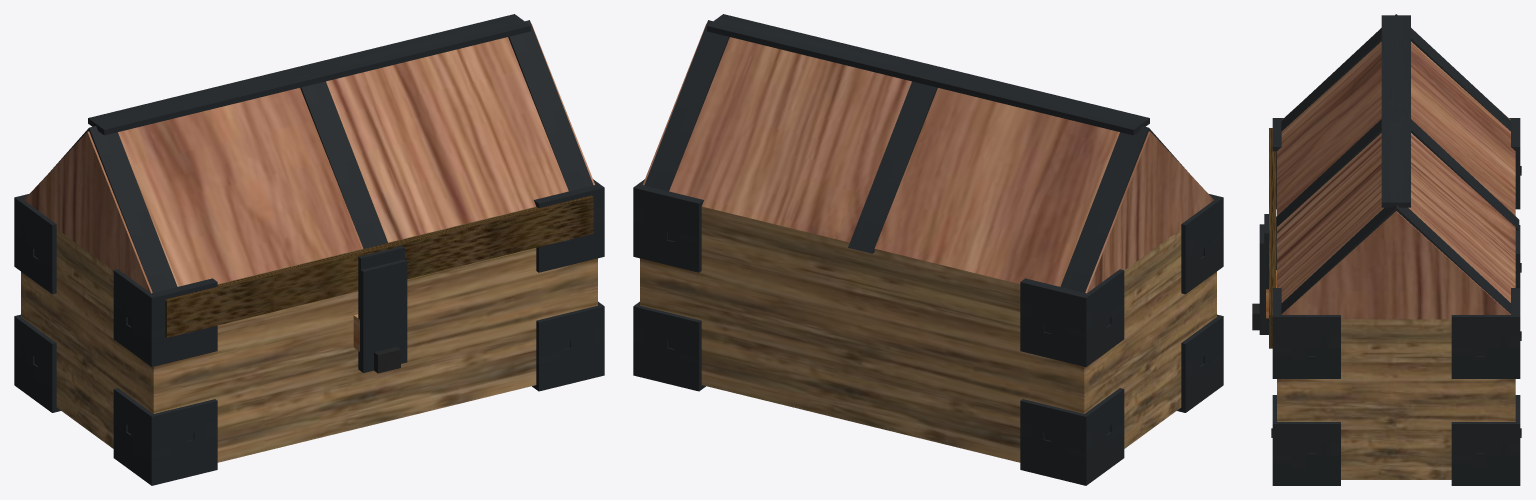
The model's file is Bag_Suitcase_Treasure_chest__0046.glb.
3 views of the same model, side by side, from view 1: azimuth 30°, elevation 25°; view 2: azimuth 150°, elevation 25°; view 3: azimuth 270°, elevation 25° (orthographic). The views are drawn at different scales.
Visible parts, largest first — view 1: chest_lid::lid_panel, chest_body::wall_front, chest_lid::lid_front_skirt, chest_body::wall_left, chest_lid::ridge_cap, chest_body::corner_bracket_0, chest_body::corner_bracket_4, chest_body::corner_bracket_1, lock_hasp::hasp_arm, chest_lid::lid_strap_1, chest_lid::lid_strap_0, chest_lid::lid_strap_2 (+4 smaller); view 2: chest_lid::lid_panel, chest_body::wall_back, chest_body::wall_left, chest_lid::ridge_cap, chest_body::corner_bracket_6, chest_body::corner_bracket_2, chest_body::corner_bracket_7, chest_body::corner_bracket_3, chest_lid::lid_strap_1, chest_lid::lid_strap_0, chest_lid::lid_strap_2, chest_body::corner_bracket_4 (+1 smaller); view 3: chest_lid::lid_panel, chest_body::wall_right, chest_lid::ridge_cap, chest_body::corner_bracket_7, chest_body::corner_bracket_5, chest_body::corner_bracket_3, chest_body::corner_bracket_1, chest_lid::lid_strap_2, chest_lid::lid_strap_1, chest_lid::lid_strap_0, chest_lid::lid_front_skirt, lock_hasp::hasp_arm (+3 smaller).
Boxes of the visible parts, bbox=[...] form: chest_lid::lid_panel: bbox=[24, 23, 594, 293]; chest_body::wall_front: bbox=[153, 206, 597, 462]; chest_lid::lid_front_skirt: bbox=[165, 195, 593, 337]; chest_body::wall_left: bbox=[21, 229, 153, 448]; chest_lid::ridge_cap: bbox=[88, 14, 530, 135]; chest_body::corner_bracket_0: bbox=[113, 388, 217, 485]; chest_body::corner_bracket_4: bbox=[113, 269, 217, 366]; chest_body::corner_bracket_1: bbox=[532, 301, 604, 391]; lock_hasp::hasp_arm: bbox=[358, 259, 407, 372]; chest_lid::lid_strap_1: bbox=[300, 81, 387, 248]; chest_lid::lid_strap_0: bbox=[51, 126, 177, 292]; chest_lid::lid_strap_2: bbox=[508, 20, 593, 191]; chest_lid::lid_panel: bbox=[643, 23, 1213, 293]; chest_body::wall_back: bbox=[640, 206, 1084, 462]; chest_body::wall_left: bbox=[1084, 229, 1216, 448]; chest_lid::ridge_cap: bbox=[707, 14, 1149, 135]; chest_body::corner_bracket_6: bbox=[1020, 269, 1124, 366]; chest_body::corner_bracket_2: bbox=[1020, 388, 1124, 485]; chest_body::corner_bracket_7: bbox=[633, 179, 703, 272]; chest_body::corner_bracket_3: bbox=[633, 301, 705, 391]; chest_lid::lid_strap_1: bbox=[848, 81, 937, 253]; chest_lid::lid_strap_0: bbox=[1060, 126, 1186, 292]; chest_lid::lid_strap_2: bbox=[644, 20, 729, 191]; chest_body::corner_bracket_4: bbox=[1181, 193, 1223, 294]; chest_lid::lid_panel: bbox=[1277, 41, 1515, 319]; chest_body::wall_right: bbox=[1277, 319, 1515, 479]; chest_lid::ridge_cap: bbox=[1381, 15, 1410, 207]; chest_body::corner_bracket_7: bbox=[1451, 288, 1521, 378]; chest_body::corner_bracket_5: bbox=[1272, 288, 1340, 378]; chest_body::corner_bracket_3: bbox=[1451, 395, 1521, 485]; chest_body::corner_bracket_1: bbox=[1271, 395, 1340, 485]; chest_lid::lid_strap_2: bbox=[1281, 204, 1511, 314]; chest_lid::lid_strap_1: bbox=[1276, 119, 1519, 230]; chest_lid::lid_strap_0: bbox=[1281, 14, 1511, 131]; chest_lid::lid_front_skirt: bbox=[1269, 128, 1276, 348]; lock_hasp::hasp_arm: bbox=[1259, 224, 1268, 334].
Size of the model in its own units: 0.518 by 0.3365 by 0.2945.
Materials: 7 (7 with a texture image).
